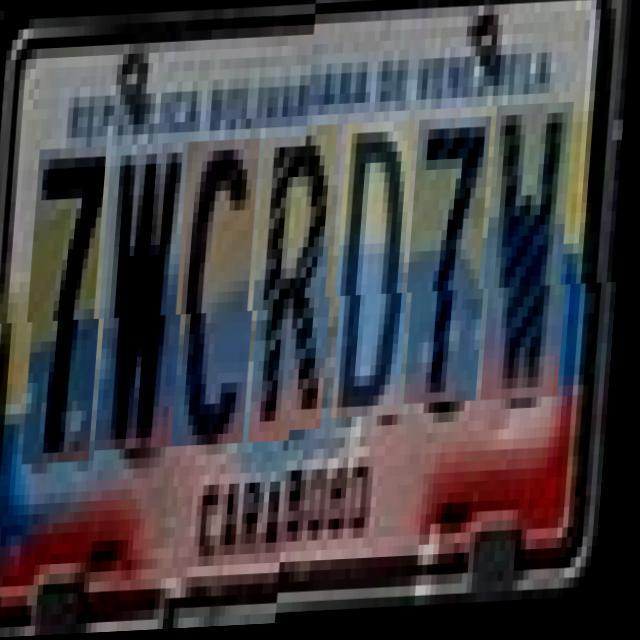7: (29, 147, 114, 466), (410, 132, 498, 419)
C: (178, 141, 267, 449)
D: (338, 135, 422, 432)
R: (255, 138, 344, 446)
W: (101, 144, 196, 452), (486, 118, 580, 416)
